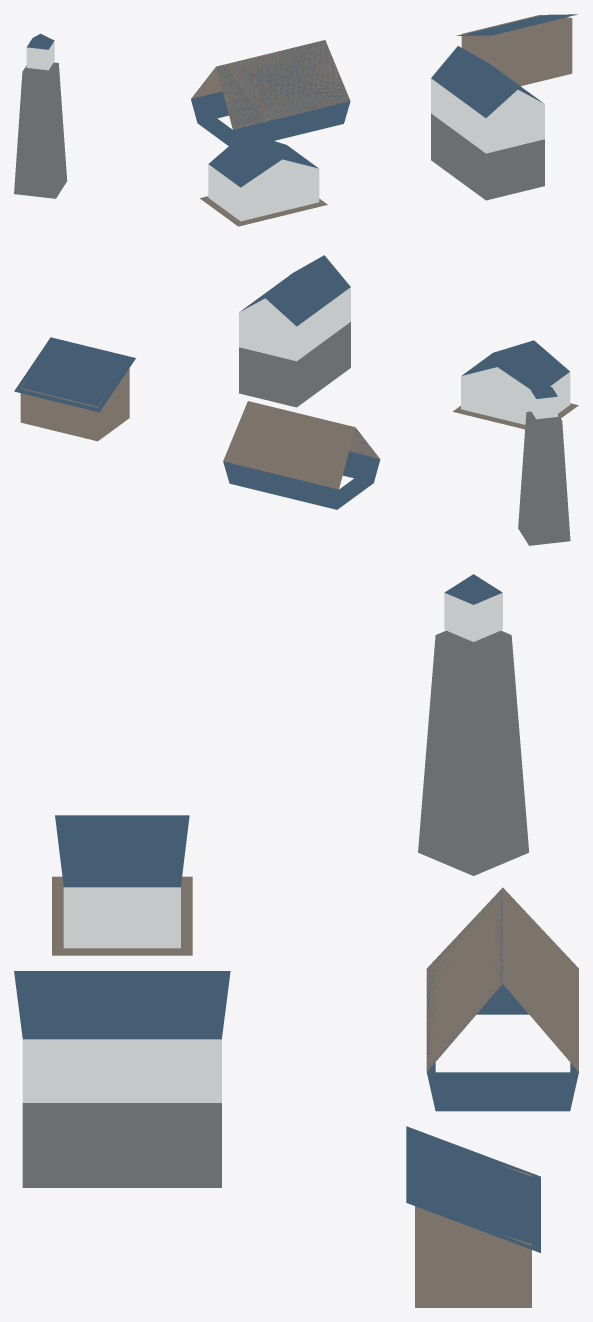
The model's file is coastal_village.obj.
3 renders of one model, top to bottom at view 1: azimuth 30°, elevation 25°; view 2: azimuth 150°, elevation 25°; view 3: azimuth 270°, elevation 25°, orthographic. The views are drawn at different scales.
Parts seen in each view (by area): view 1: coastal_village; view 2: coastal_village; view 3: coastal_village.
Boxes of the visible parts, x1,y1,x2,y2 form: coastal_village: [14, 14, 577, 226]; coastal_village: [14, 255, 578, 545]; coastal_village: [14, 574, 578, 1307].
Size of the model in its own units: 39 by 10.5 by 19.3.
